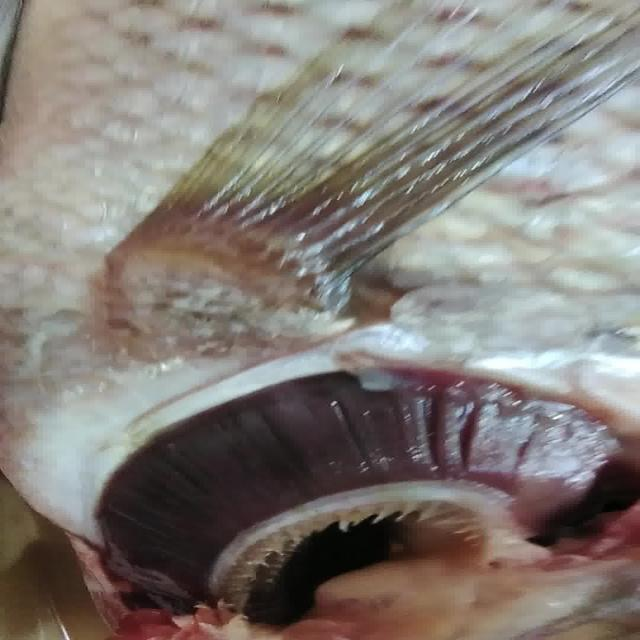Non-Fresh: (47, 352, 618, 604)
